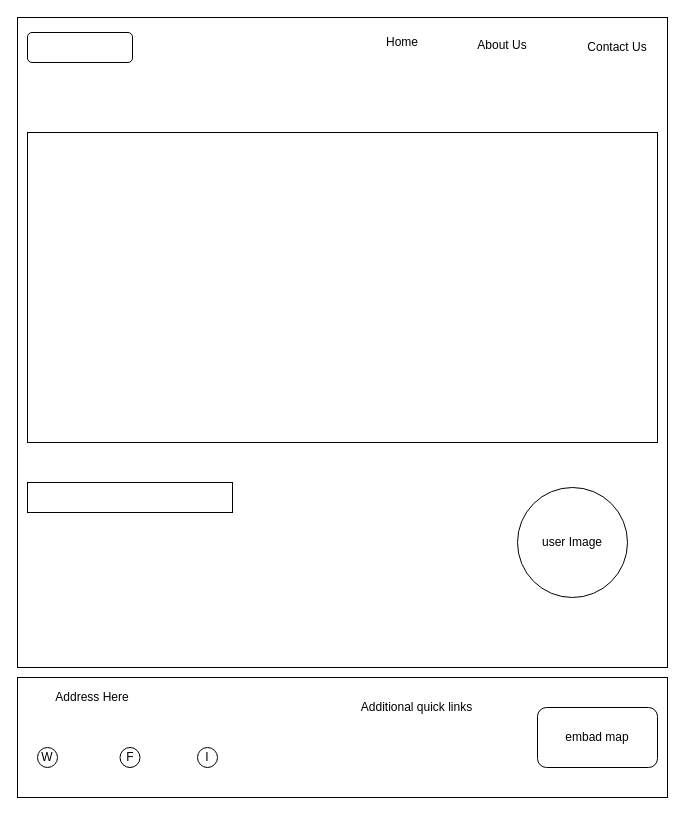
Image size: 685x815. Some labels were removed from this diagram. The centre of each missing label's shape, as x and y in pixels:
"HEADING" goes at point 129,497.
"LOGO" goes at point 79,47.
"Video or Image" goes at point 342,287.
